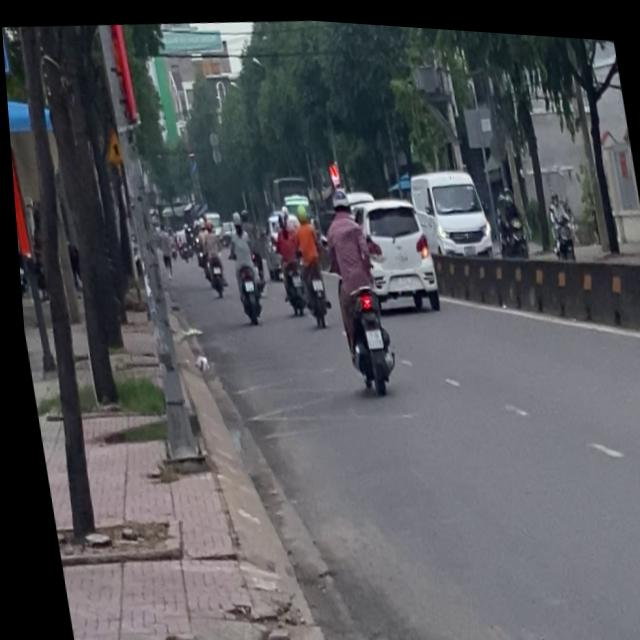helmet: (328, 180, 350, 210)
licenseplate: (315, 176, 396, 393)
nohelmet: (360, 323, 378, 343)
